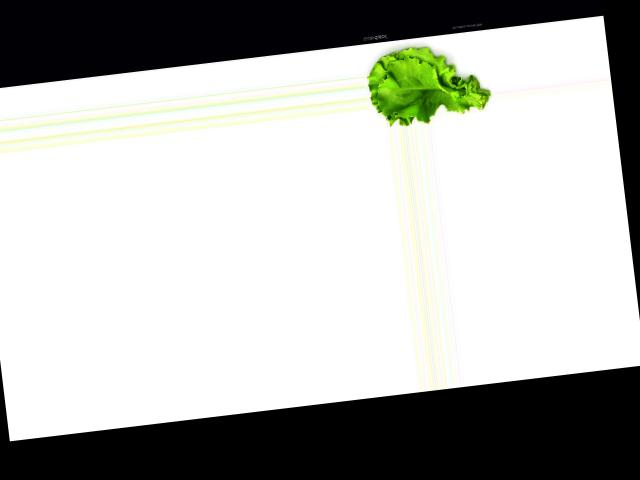lettuce: (364, 33, 490, 130)
